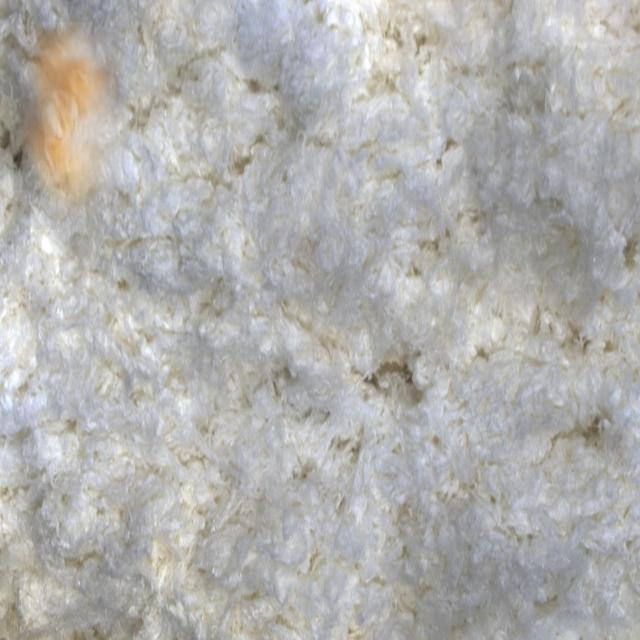dust: (13, 22, 127, 230)
